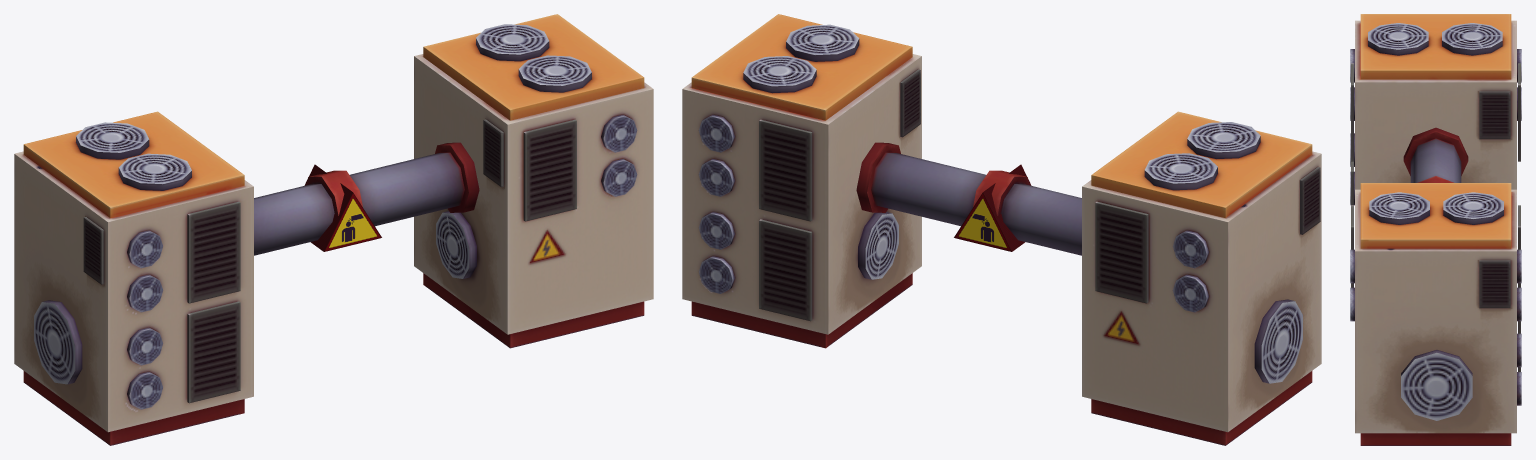
File: Obstacle_AC2_Slide.FBX
The picture shows the model from 3 angles, left to right: view 1: azimuth 30°, elevation 25°; view 2: azimuth 150°, elevation 25°; view 3: azimuth 270°, elevation 25°; orthographic projection. The views are drawn at different scales.
Parts seen in each view (by area): view 1: Obstacle_AC2_Slide; view 2: Obstacle_AC2_Slide; view 3: Obstacle_AC2_Slide.
Boxes of the visible parts, box(x1,y1,x2,y2) form: Obstacle_AC2_Slide: box(14, 14, 653, 445); Obstacle_AC2_Slide: box(682, 14, 1321, 445); Obstacle_AC2_Slide: box(1350, 14, 1521, 445).
Bounding box in the file's own units: 38.09 × 15.93 × 11.64.
